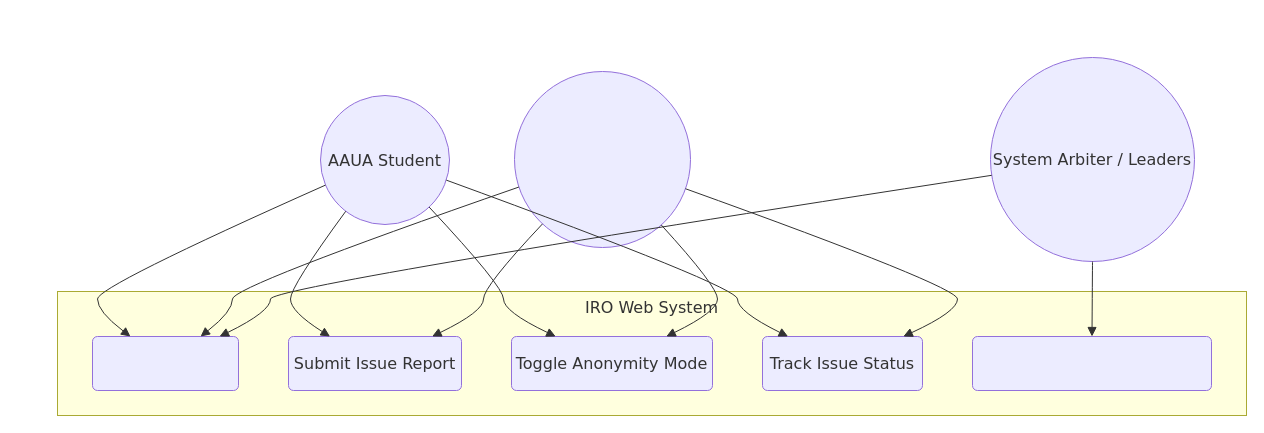
Some shapes in this 1264 by 433 pixel diagram are drawn without their labels. Here are the shapes that lost their labels. From the top down, the centre of each, then its label:
pixel 602 159: Community Indigene
pixel 165 363: Register / Log In
pixel 1092 363: Review & Update Issue Status
